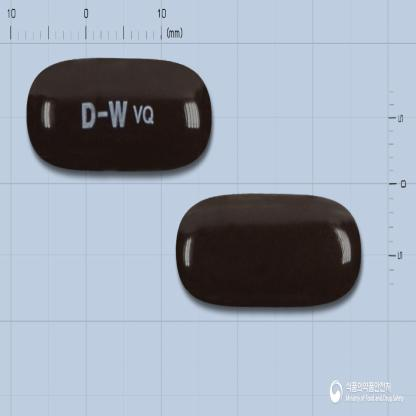pill: (175, 190, 363, 308), (26, 57, 213, 172)
